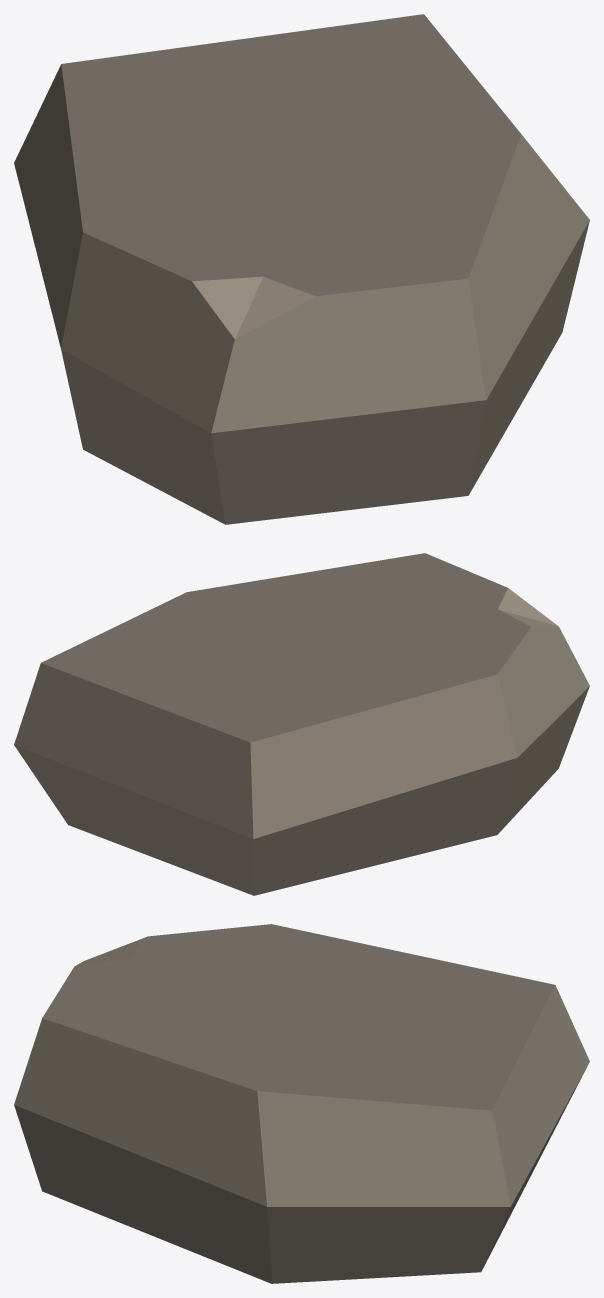
File: SM_Prop_Rubble_Concrete_01.fbx
3 renders of one model, top to bottom at view 1: azimuth 30°, elevation 25°; view 2: azimuth 150°, elevation 25°; view 3: azimuth 270°, elevation 25°, orthographic. The views are drawn at different scales.
Parts seen in each view (by area): view 1: SM_Prop_Rubble_Concrete_01; view 2: SM_Prop_Rubble_Concrete_01; view 3: SM_Prop_Rubble_Concrete_01.
Boxes of the visible parts, x1,y1,x2,y2 form: SM_Prop_Rubble_Concrete_01: (14,14,589,524); SM_Prop_Rubble_Concrete_01: (14,553,589,895); SM_Prop_Rubble_Concrete_01: (14,924,589,1283).
Size of the model in its own units: 63.85 by 25.05 by 75.49.
